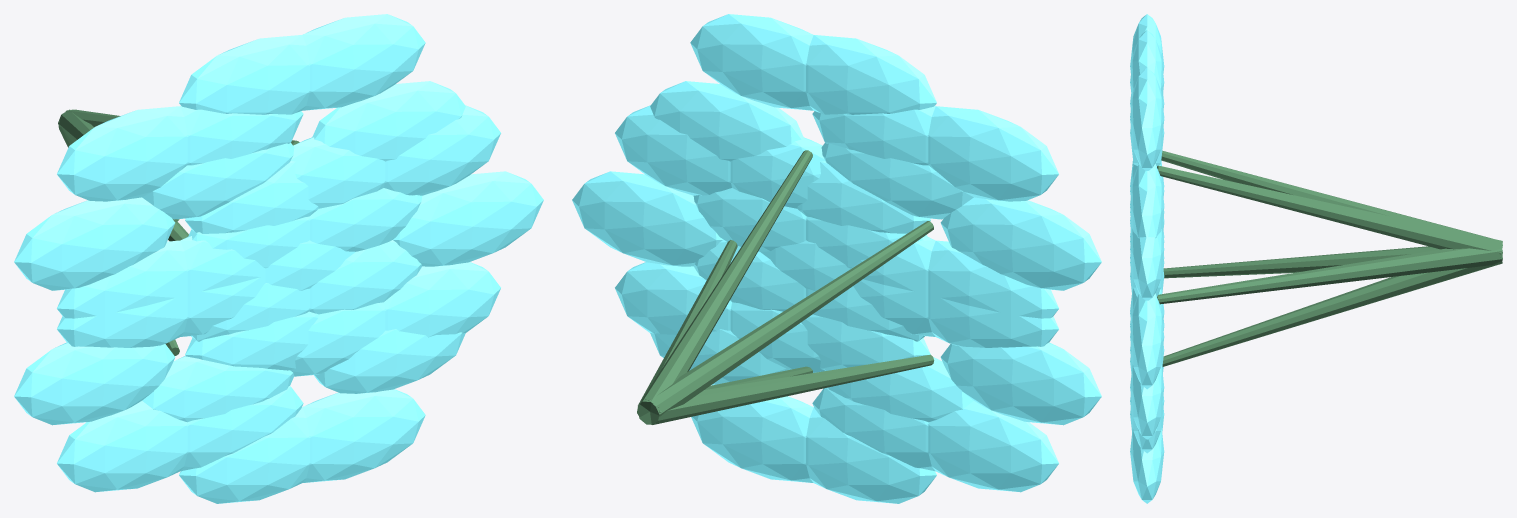
File: Akariz_Plant_Star_Flower.glb
3 views of the same model, side by side, from view 1: azimuth 30°, elevation 25°; view 2: azimuth 150°, elevation 25°; view 3: azimuth 270°, elevation 25° (orthographic). The views are drawn at different scales.
Visible parts, largest first — view 1: Akariz_Plant_Star_Flower_petal2_3, Akariz_Plant_Star_Flower_petal3_3, Akariz_Plant_Star_Flower_petal0_0, Akariz_Plant_Star_Flower_petal2_2, Akariz_Plant_Star_Flower_petal1_1, Akariz_Plant_Star_Flower_petal3_4, Akariz_Plant_Star_Flower_petal4_5, Akariz_Plant_Star_Flower_petal1_2, Akariz_Plant_Star_Flower_petal1_0, Akariz_Plant_Star_Flower_petal4_4, Akariz_Plant_Star_Flower_petal0_5, Akariz_Plant_Star_Flower_petal4_3 (+19 smaller); view 2: Akariz_Plant_Star_Flower_petal2_3, Akariz_Plant_Star_Flower_petal3_3, Akariz_Plant_Star_Flower_petal0_0, Akariz_Plant_Star_Flower_petal2_2, Akariz_Plant_Star_Flower_petal1_1, Akariz_Plant_Star_Flower_petal3_4, Akariz_Plant_Star_Flower_petal1_2, Akariz_Plant_Star_Flower_petal1_0, Akariz_Plant_Star_Flower_petal4_5, Akariz_Plant_Star_Flower_petal4_4, Akariz_Plant_Star_Flower_stem2, Akariz_Plant_Star_Flower_petal0_1 (+23 smaller); view 3: Akariz_Plant_Star_Flower_stem0, Akariz_Plant_Star_Flower_stem1, Akariz_Plant_Star_Flower_stem4, Akariz_Plant_Star_Flower_stem3, Akariz_Plant_Star_Flower_petal1_1, Akariz_Plant_Star_Flower_stem2, Akariz_Plant_Star_Flower_petal0_0, Akariz_Plant_Star_Flower_petal1_0, Akariz_Plant_Star_Flower_petal0_1, Akariz_Plant_Star_Flower_petal0_5, Akariz_Plant_Star_Flower_petal4_5, Akariz_Plant_Star_Flower_petal1_2 (+2 smaller).
Boxes of the visible parts, box(x1,y1,x2,y2) form: Akariz_Plant_Star_Flower_petal2_3: box(14, 197, 175, 290); Akariz_Plant_Star_Flower_petal3_3: box(14, 342, 175, 425); Akariz_Plant_Star_Flower_petal0_0: box(393, 171, 543, 266); Akariz_Plant_Star_Flower_petal2_2: box(57, 106, 187, 201); Akariz_Plant_Star_Flower_petal1_1: box(302, 14, 425, 110); Akariz_Plant_Star_Flower_petal3_4: box(57, 401, 187, 492); Akariz_Plant_Star_Flower_petal4_5: box(302, 389, 425, 482); Akariz_Plant_Star_Flower_petal1_2: box(179, 35, 309, 114); Akariz_Plant_Star_Flower_petal1_0: box(312, 81, 465, 161); Akariz_Plant_Star_Flower_petal4_4: box(179, 407, 309, 503); Akariz_Plant_Star_Flower_petal0_5: box(384, 262, 500, 337); Akariz_Plant_Star_Flower_petal4_3: box(142, 356, 294, 422); Akariz_Plant_Star_Flower_petal2_3: box(940, 197, 1101, 290); Akariz_Plant_Star_Flower_petal3_3: box(940, 342, 1101, 425); Akariz_Plant_Star_Flower_petal0_0: box(572, 171, 722, 266); Akariz_Plant_Star_Flower_petal2_2: box(928, 106, 1058, 201); Akariz_Plant_Star_Flower_petal1_1: box(690, 14, 813, 110); Akariz_Plant_Star_Flower_petal3_4: box(928, 401, 1058, 492); Akariz_Plant_Star_Flower_petal1_2: box(806, 35, 936, 114); Akariz_Plant_Star_Flower_petal1_0: box(650, 81, 803, 161); Akariz_Plant_Star_Flower_petal4_5: box(691, 396, 813, 482); Akariz_Plant_Star_Flower_petal4_4: box(806, 407, 936, 503); Akariz_Plant_Star_Flower_stem2: box(647, 221, 933, 421); Akariz_Plant_Star_Flower_petal0_1: box(615, 105, 731, 195); Akariz_Plant_Star_Flower_stem0: box(1157, 243, 1502, 304); Akariz_Plant_Star_Flower_stem1: box(1157, 165, 1502, 254); Akariz_Plant_Star_Flower_stem4: box(1162, 257, 1502, 366); Akariz_Plant_Star_Flower_stem3: box(1163, 246, 1502, 278); Akariz_Plant_Star_Flower_petal1_1: box(1130, 67, 1164, 170); Akariz_Plant_Star_Flower_stem2: box(1161, 150, 1502, 242); Akariz_Plant_Star_Flower_petal0_0: box(1130, 293, 1164, 389); Akariz_Plant_Star_Flower_petal1_0: box(1130, 163, 1164, 238); Akariz_Plant_Star_Flower_petal0_1: box(1130, 229, 1164, 300); Akariz_Plant_Star_Flower_petal0_5: box(1130, 362, 1164, 439); Akariz_Plant_Star_Flower_petal4_5: box(1130, 427, 1164, 503); Akariz_Plant_Star_Flower_petal1_2: box(1130, 30, 1164, 100).
Size of the model in its own units: 1.12 by 0.9293 by 0.7627.
